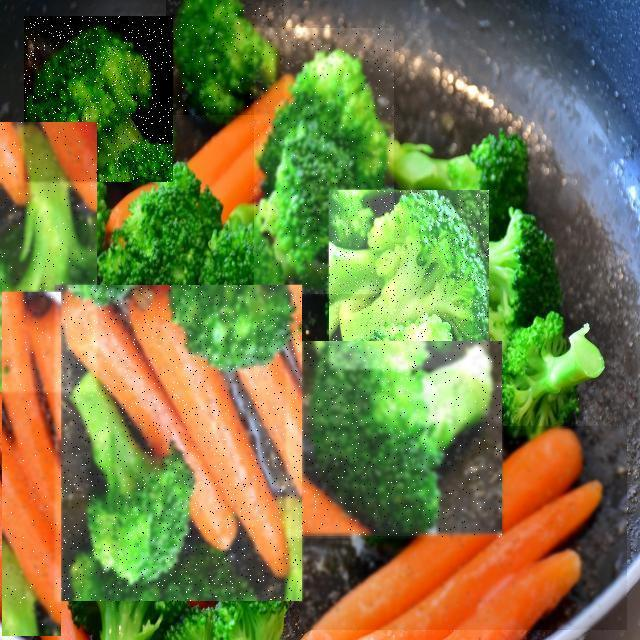Broccoli: (286, 342, 502, 538), (254, 28, 394, 294), (163, 292, 293, 528), (329, 190, 489, 372), (0, 122, 97, 392), (24, 16, 173, 182), (167, 0, 285, 115)
Carrot: (55, 285, 302, 601), (299, 426, 627, 630), (2, 292, 61, 636)
